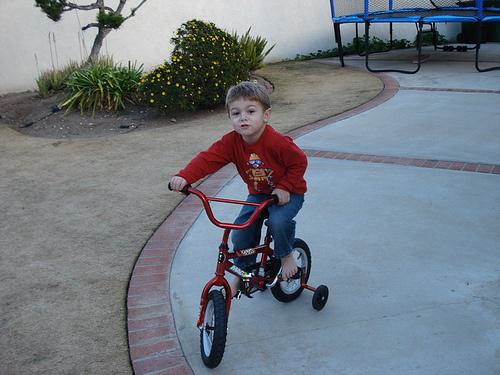car: (164, 184, 331, 370)
person: (171, 83, 309, 300)
